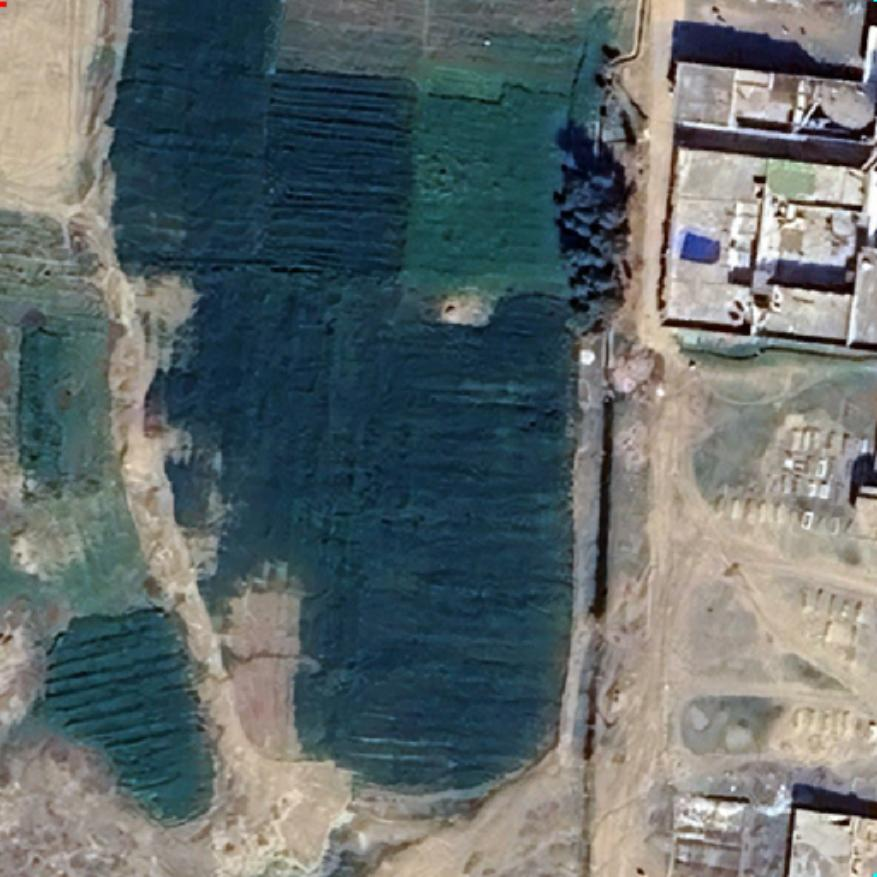Solarpanel: (678, 230, 722, 266)
